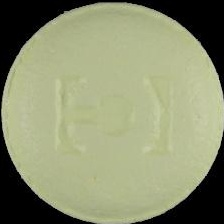49999-692: (0, 0, 224, 224)
